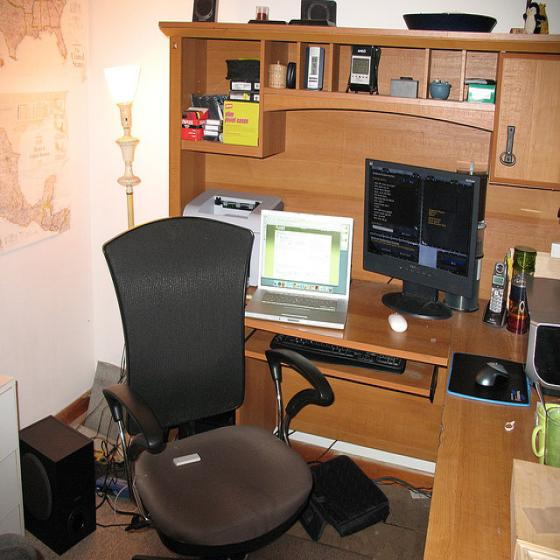chair: (100, 216, 336, 545)
clock: (350, 56, 370, 85)
cup: (531, 402, 560, 463), (543, 407, 560, 468)
keyboard: (270, 334, 407, 373), (260, 290, 340, 314)
laptop: (245, 208, 355, 331)
mouse: (474, 362, 506, 390), (388, 312, 408, 333)
tv: (363, 159, 481, 301)
